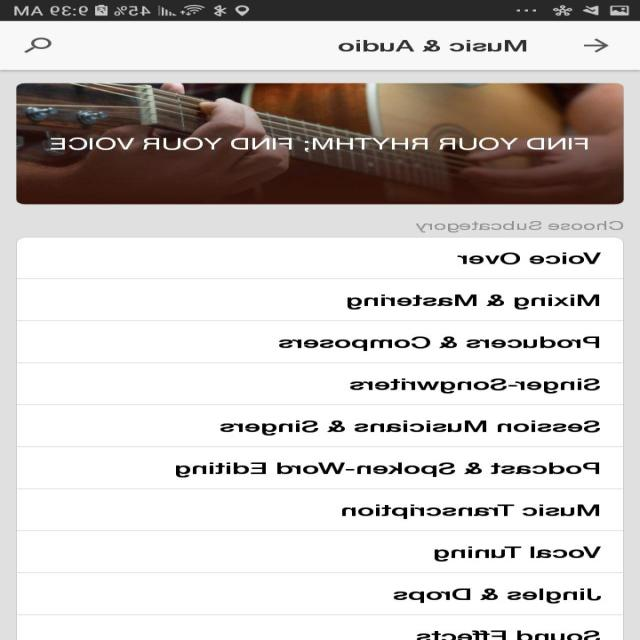Icon: (23, 37, 52, 53), (584, 38, 610, 53)
Image: (17, 82, 624, 204)
Text: (176, 461, 600, 478), (51, 137, 588, 150), (220, 419, 600, 436), (279, 336, 600, 351), (348, 293, 600, 310), (342, 503, 600, 519), (350, 378, 601, 394), (394, 588, 602, 604), (434, 545, 602, 562), (415, 220, 623, 233), (338, 40, 528, 52), (416, 630, 601, 640), (457, 252, 601, 264)
